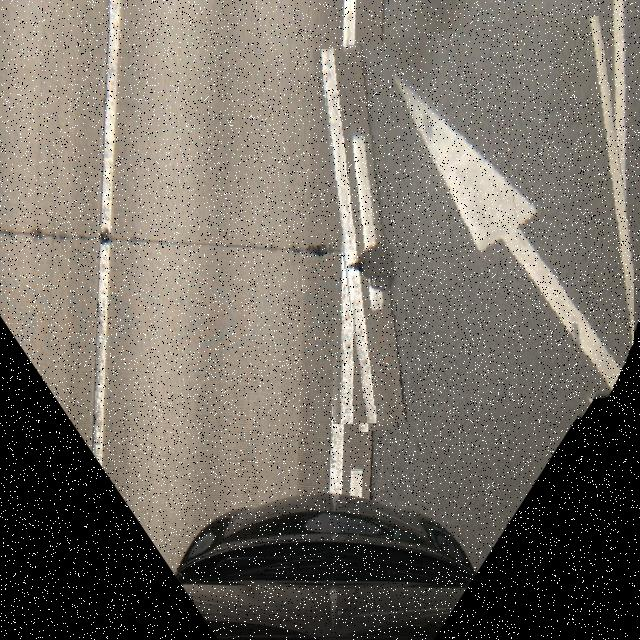chang_lane_left: (324, 23, 634, 424)
